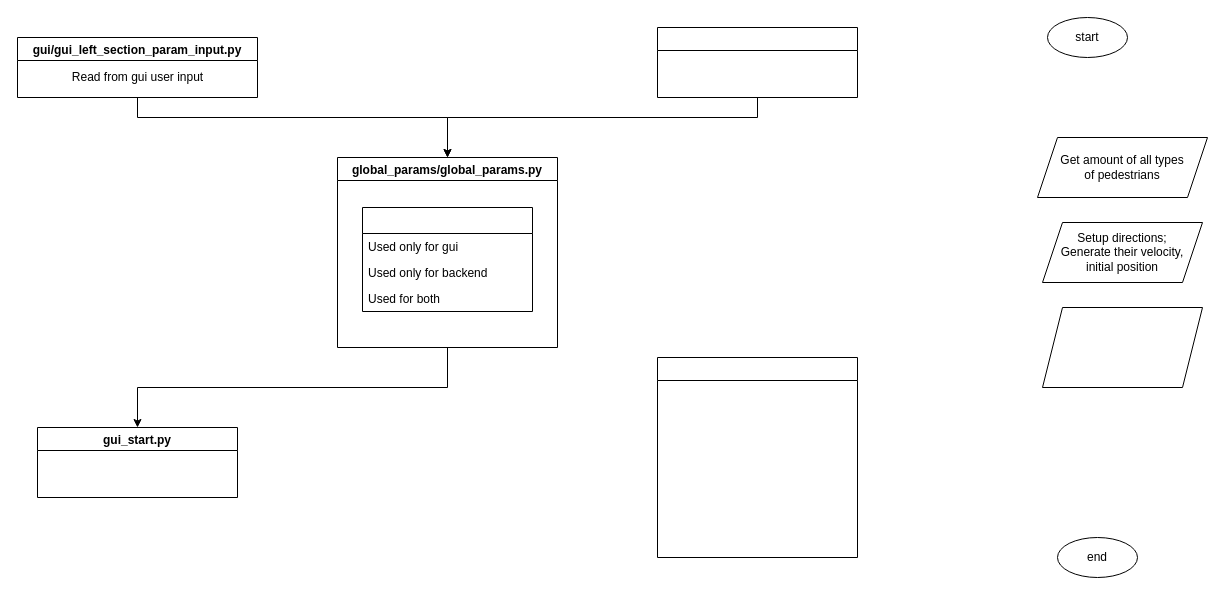
This 1225x595 diagram has some shape labels left out. Each missing label, with the box of its shape:
backend/Ped.py: (656, 356, 858, 558)
backend/start.py: (656, 26, 858, 98)
Define global params:: (362, 206, 532, 312)
move one step for each ped: find intersection point, ensure no conflict: (1042, 306, 1202, 388)
